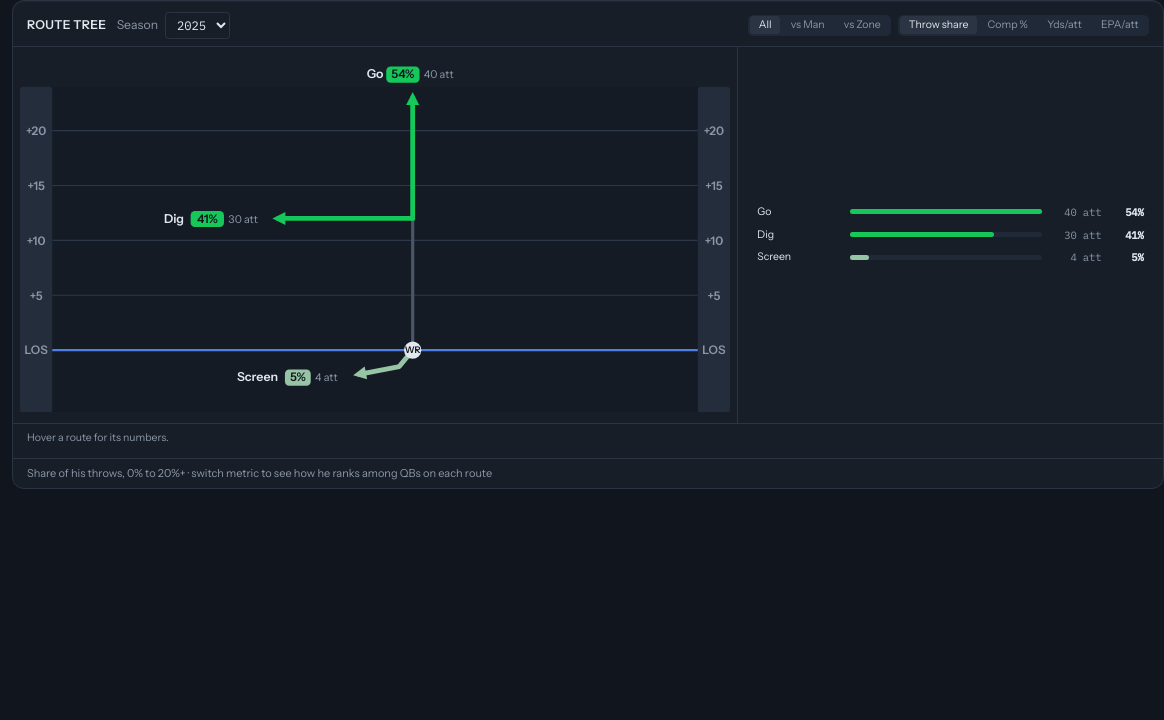
RouteTree › a QB gets his throws by route, opening on throw share, with QB metrics ranked among QBs
Click the button "Comp %" at (1008, 25), box [979,16,1037,34]
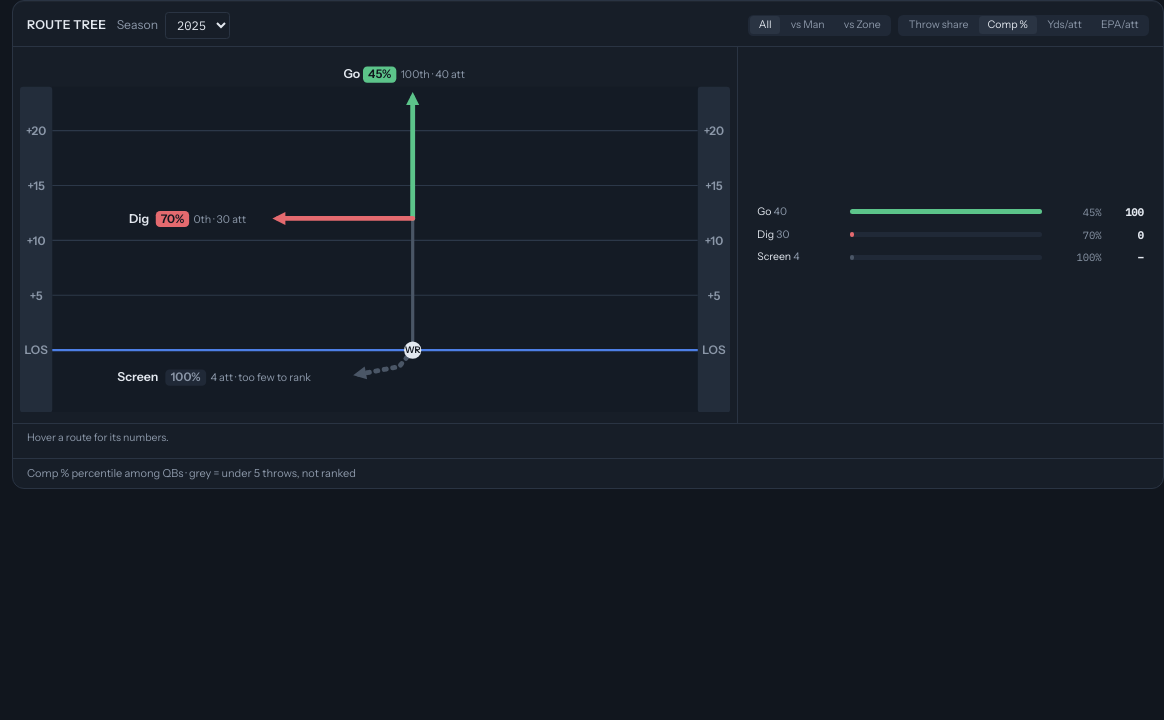
Hover over the list item "Go 40 45% 100" at (951, 212), box [752,201,1149,222]
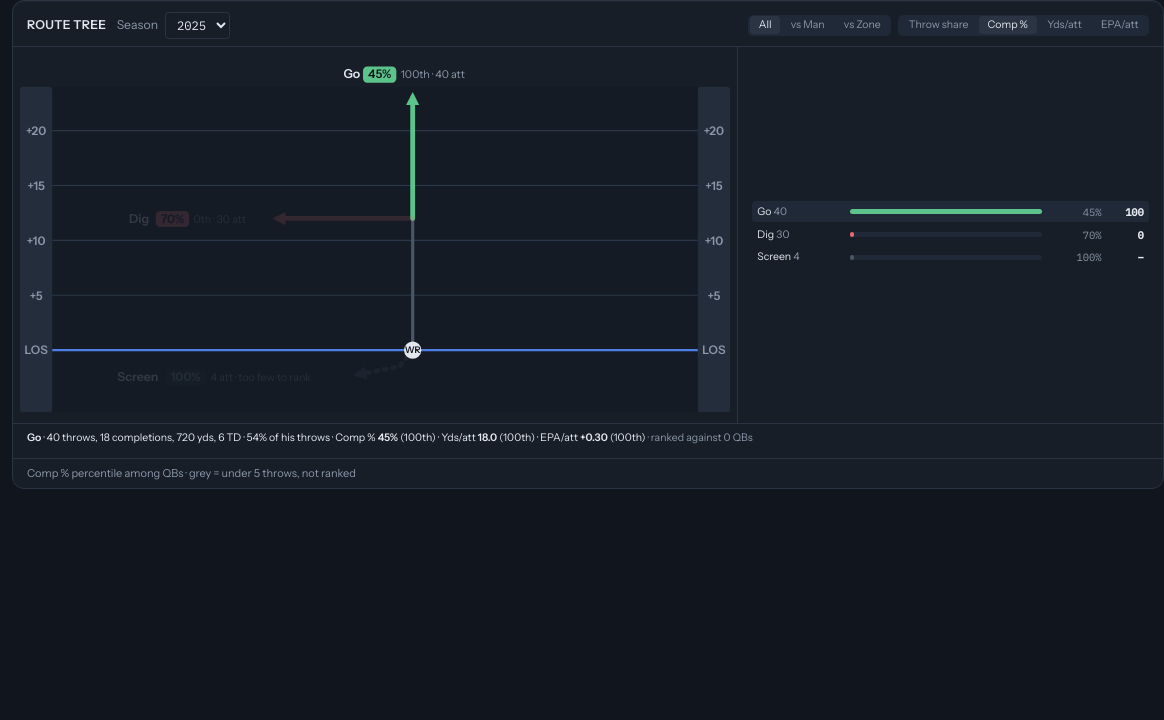
Expected: the element with test id "chart-tip" shows "Go · 40 throws, 18 completions", [13,422,1163,458]
